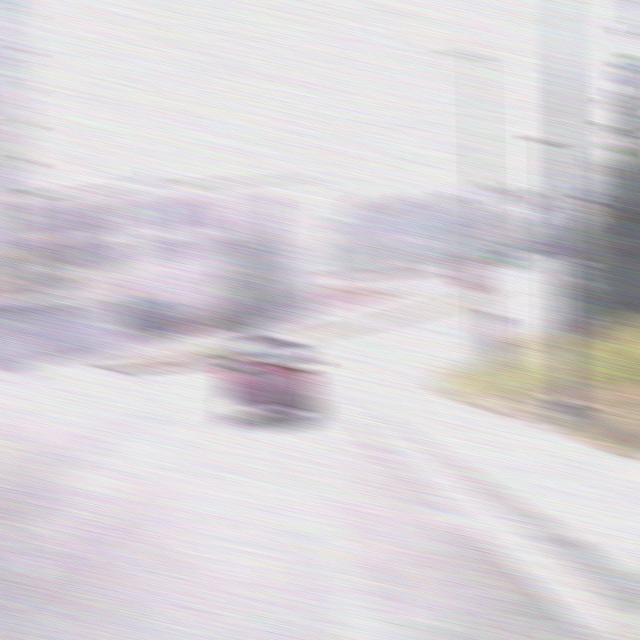stop_sign: (449, 250, 489, 294)
